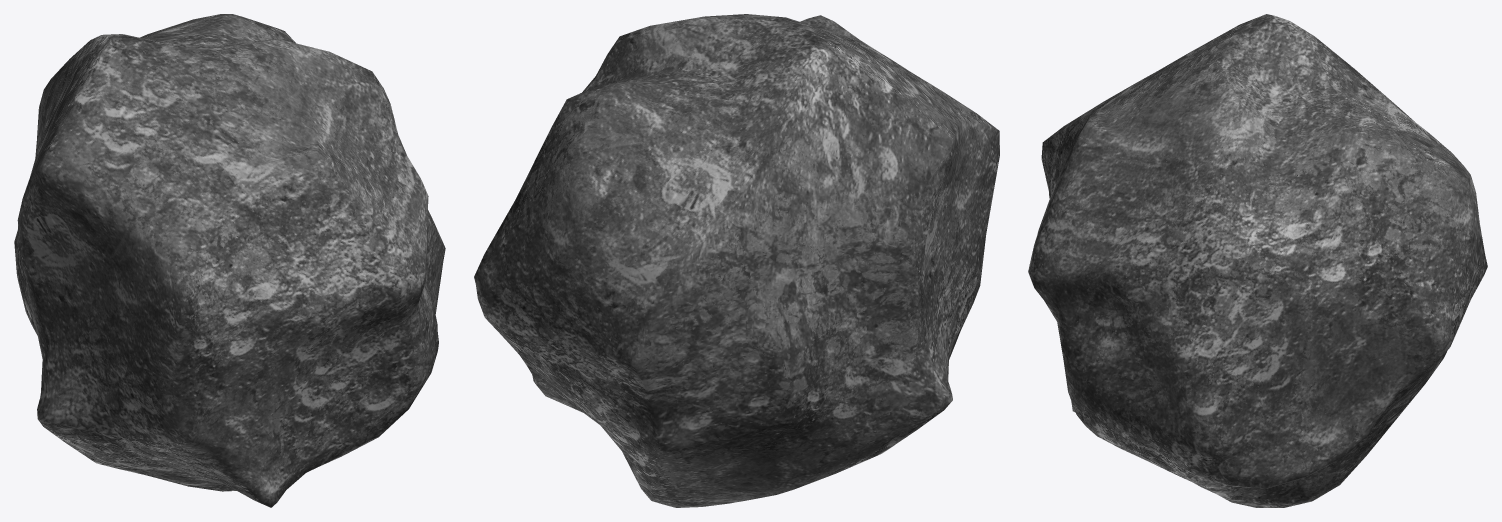
File: Asteroid_Small_2.obj
3 renders of one model, left to right at view 1: azimuth 30°, elevation 25°; view 2: azimuth 150°, elevation 25°; view 3: azimuth 270°, elevation 25°, orthographic. The views are drawn at different scales.
Visible parts, largest first — view 1: Aster_Small_2__Cube.016; view 2: Aster_Small_2__Cube.016; view 3: Aster_Small_2__Cube.016.
Part boxes in pixels (x1,y1,x2,y2): Aster_Small_2__Cube.016: (14,14,445,507); Aster_Small_2__Cube.016: (474,14,999,507); Aster_Small_2__Cube.016: (1028,14,1487,507).
Bounding box in the file's own units: 1.17 × 1.36 × 1.3.
Materials: 1 (1 with a texture image).
